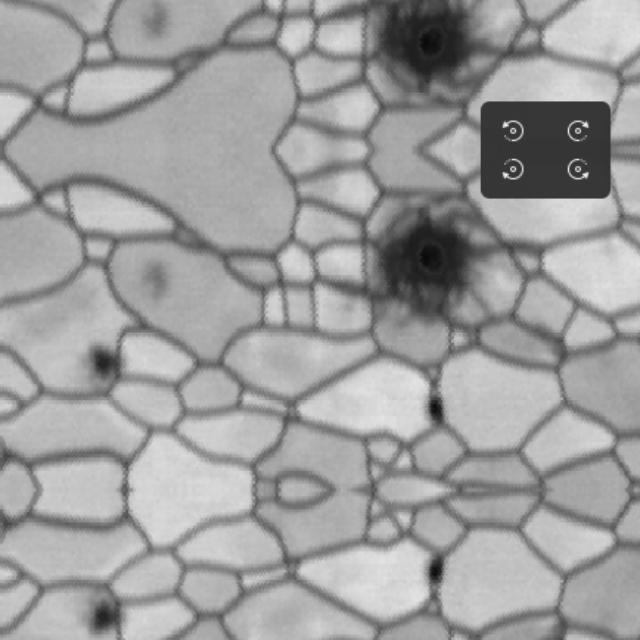good_void: (367, 204, 489, 330), (367, 0, 489, 96), (127, 254, 185, 309), (127, 0, 185, 47), (79, 337, 135, 385), (79, 597, 135, 640), (423, 378, 449, 432), (423, 550, 449, 604)
